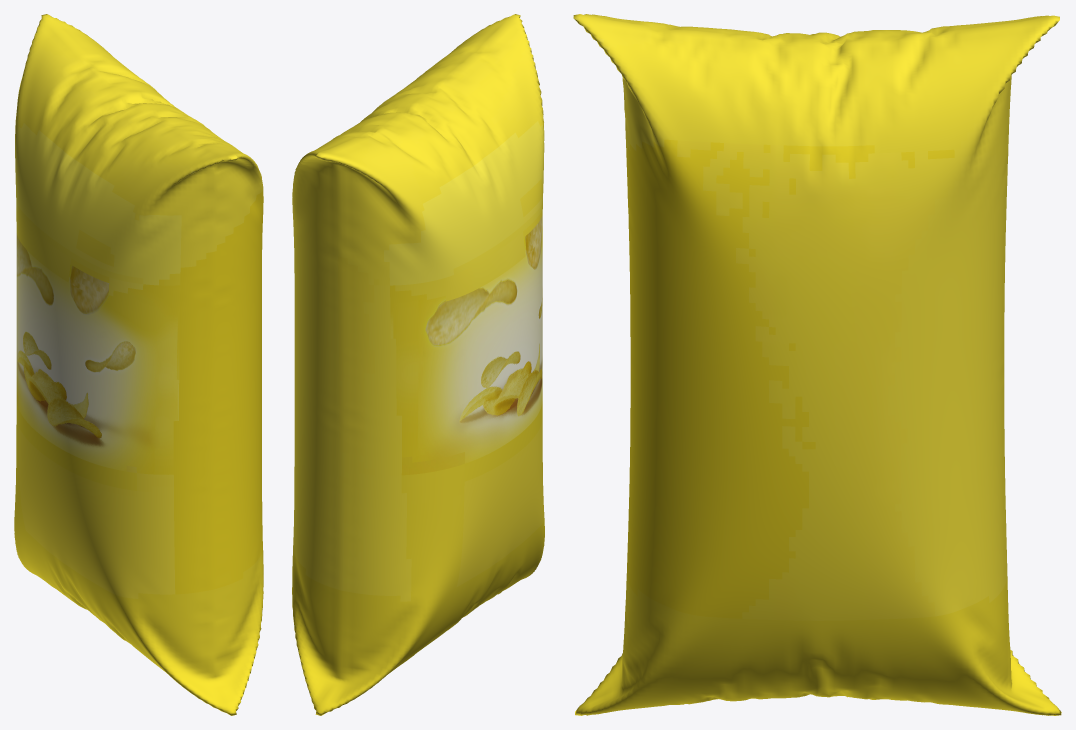
File: crisps.fbx
3 views of the same model, side by side, from view 1: azimuth 30°, elevation 25°; view 2: azimuth 150°, elevation 25°; view 3: azimuth 270°, elevation 25° (orthographic). The views are drawn at different scales.
Visible parts, largest first — view 1: Cube; view 2: Cube; view 3: Cube.
Boxes of the visible parts, <box> form: Cube: <box>14,14,263,715</box>; Cube: <box>292,14,544,715</box>; Cube: <box>573,14,1061,715</box>.
Size of the model in its own units: 312 by 876 by 554.
